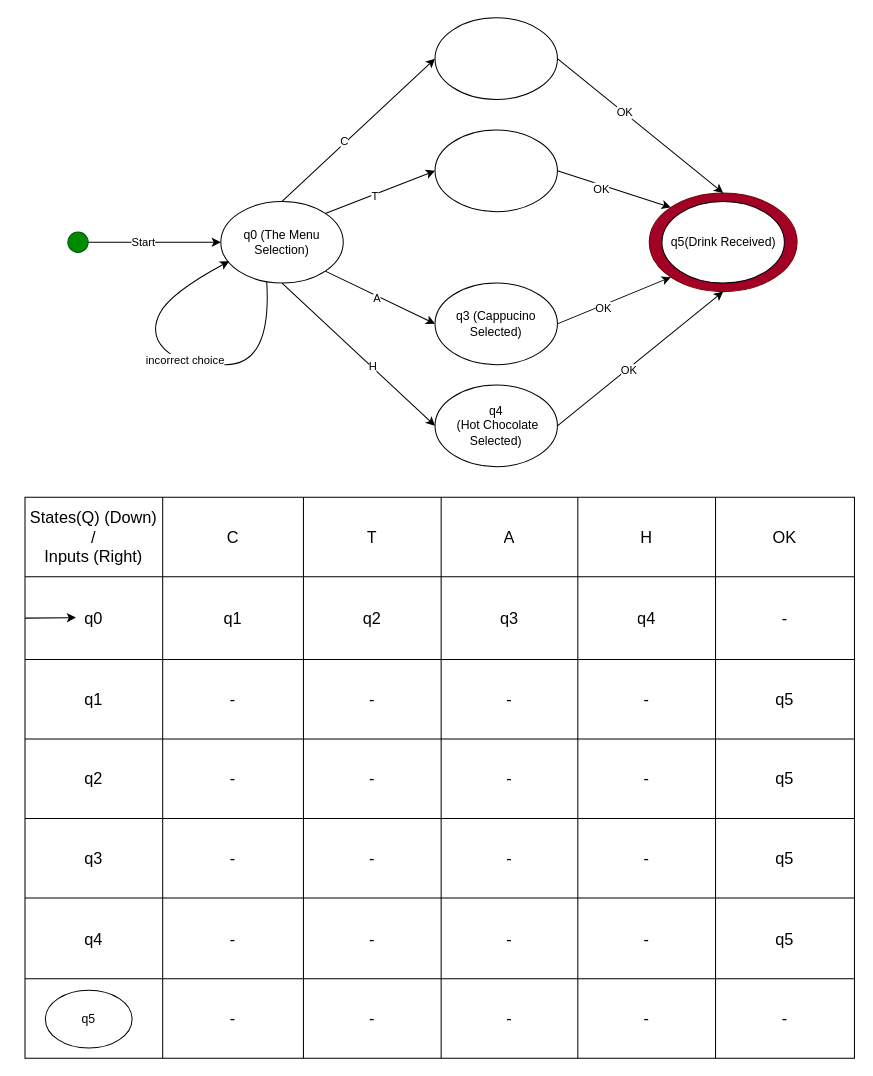
The diagram is 873 pixels wide and 1076 high, and some of its shapes have lost their labels. Here are the shapes that lost their labels. From the top down, the box of each, then its label:
(434, 17, 557, 99): q1 (Coffee Selected)
(434, 129, 557, 212): q2 (Tea Selected)
